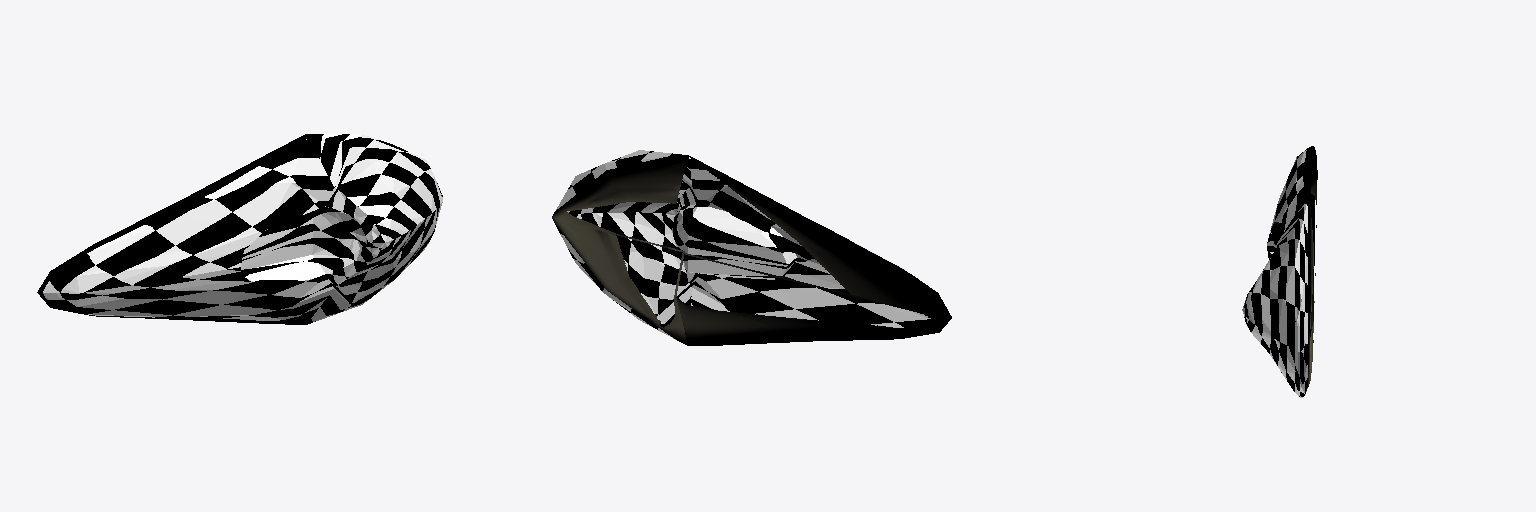
The picture shows the model from 3 angles: view 1: azimuth 30°, elevation 25°; view 2: azimuth 150°, elevation 25°; view 3: azimuth 270°, elevation 25°; orthographic projection.
Visible parts, largest first — view 1: 03_-_Default; view 2: 03_-_Default; view 3: 03_-_Default.
Part boxes in pixels (left/top/right/bottom): 03_-_Default: left=37, top=134, right=442, bottom=324; 03_-_Default: left=552, top=150, right=951, bottom=345; 03_-_Default: left=1242, top=146, right=1317, bottom=397.
Size of the model in its own units: 152 by 68.68 by 24.51.
1 materials, 1 textured.